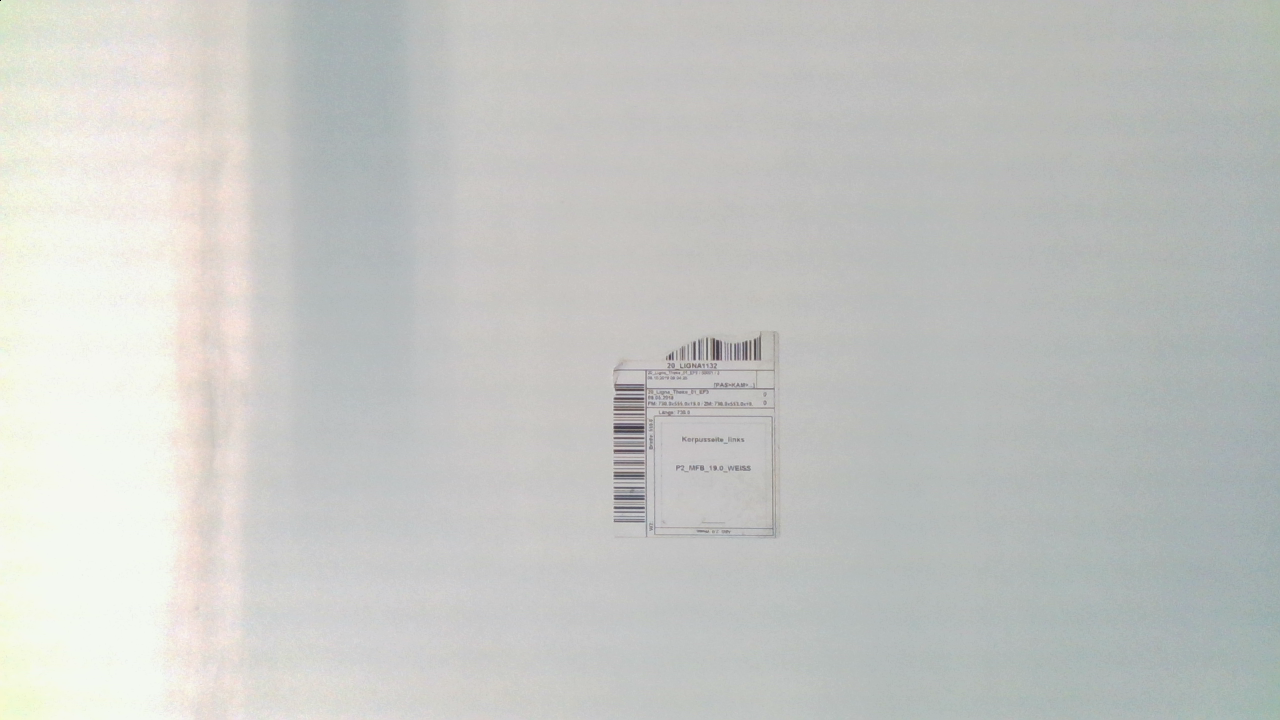barcode: (590, 316, 815, 556)
